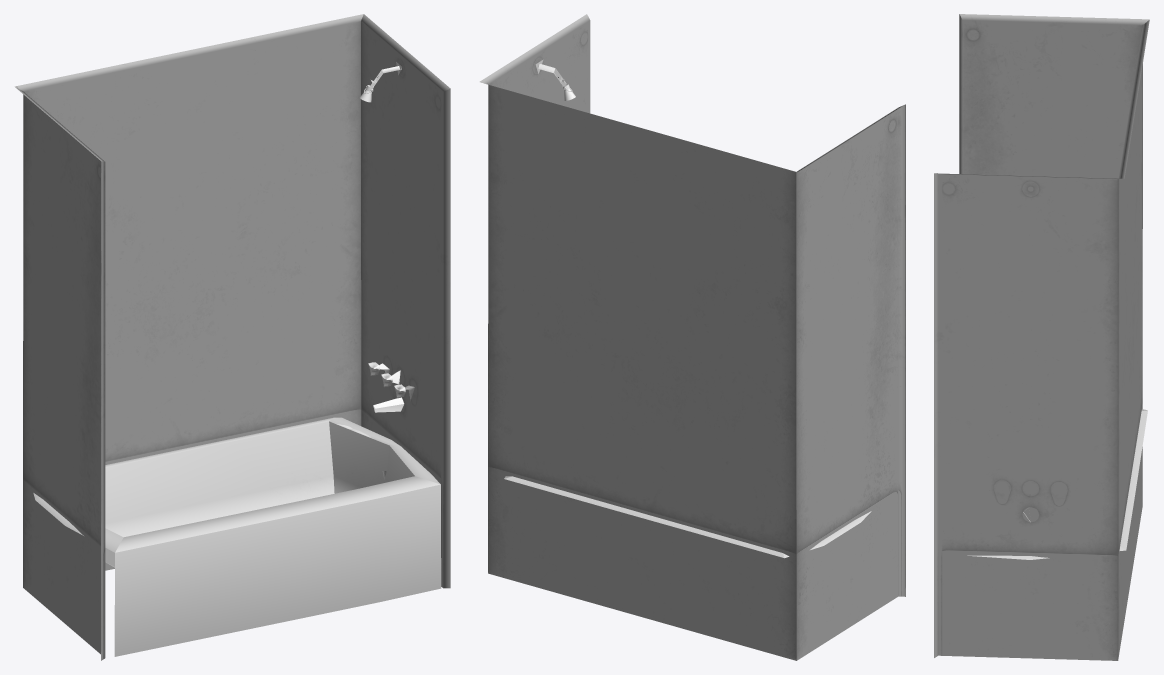
The model's file is Bathtub.fbx.
3 views of the same model, side by side, from view 1: azimuth 30°, elevation 25°; view 2: azimuth 150°, elevation 25°; view 3: azimuth 270°, elevation 25° (orthographic). The views are drawn at different scales.
Visible parts, largest first — view 1: Bathtub; view 2: Bathtub; view 3: Bathtub.
Boxes of the visible parts, x1,y1,x2,y2 form: Bathtub: (14,14,450,660); Bathtub: (479,14,905,660); Bathtub: (934,14,1149,660).
Bounding box in the file's own units: 157 × 216 × 86.96.
2 materials, 2 textured.
